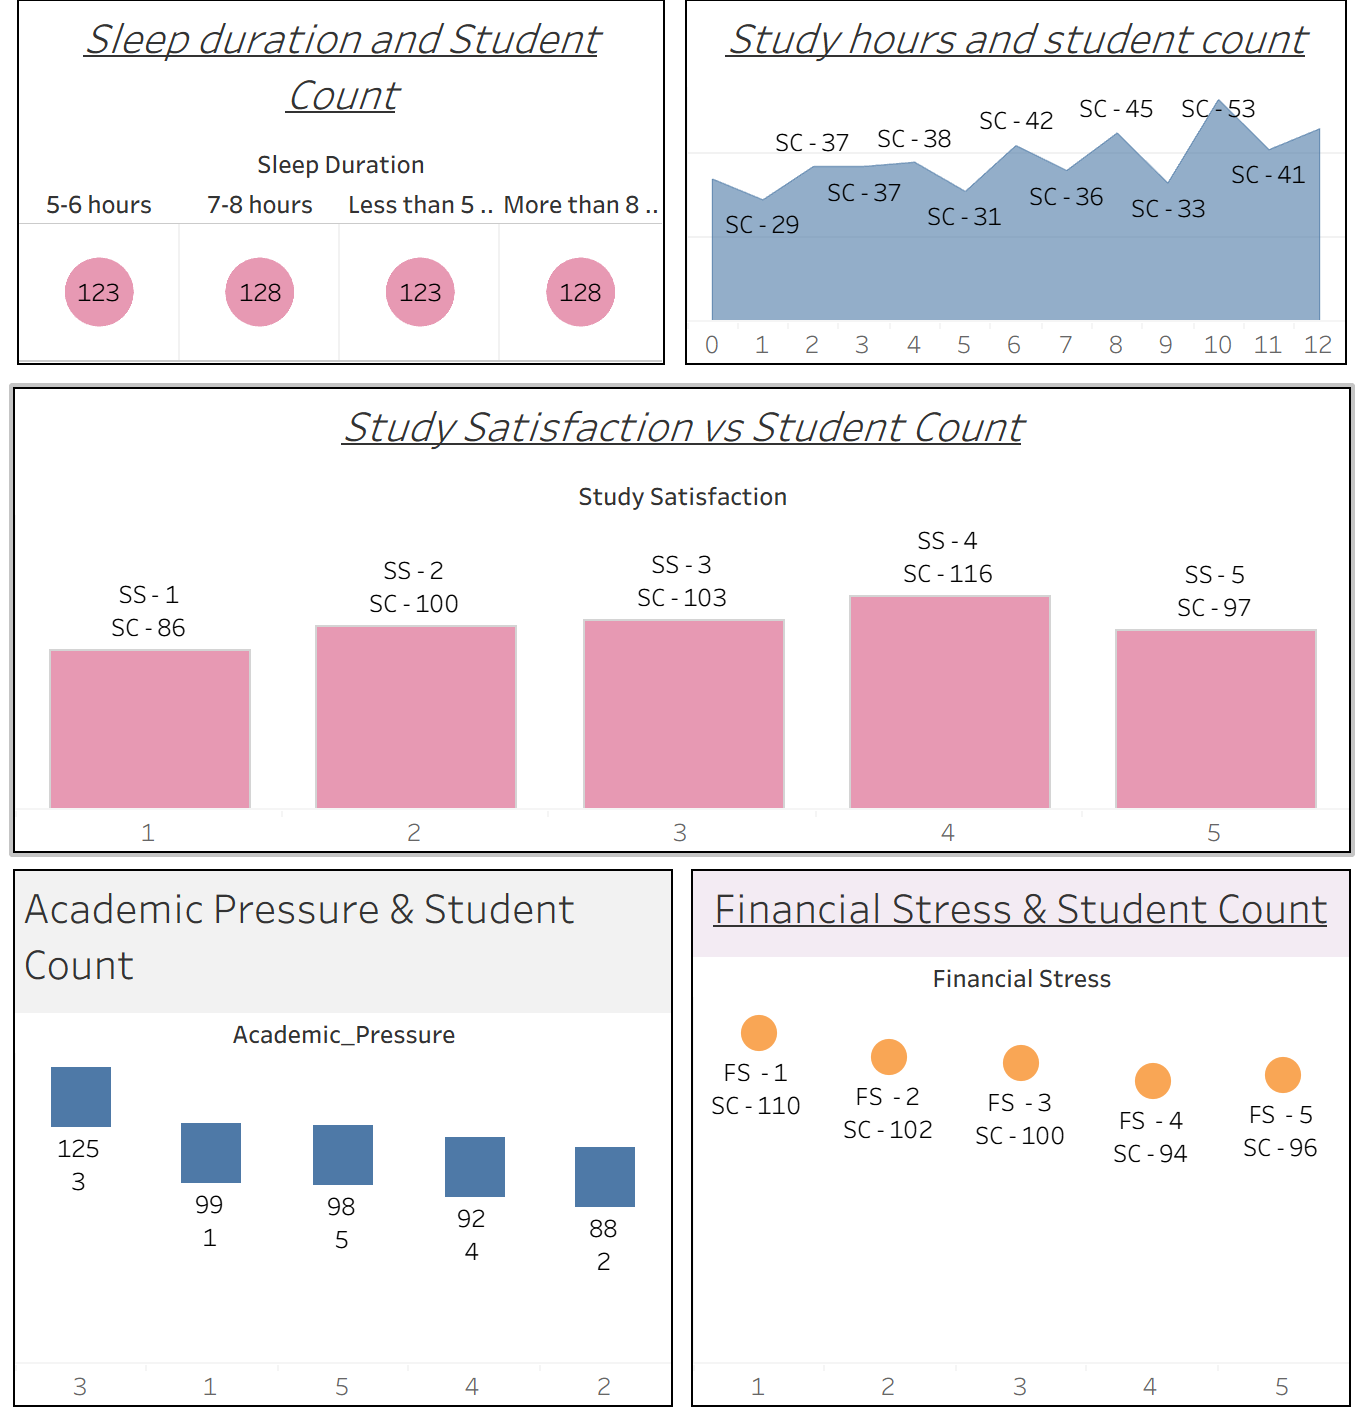

This screenshot's page, from the dashboard's own definition file:
{"tool":"tableau","page":{"name":"Dashboard 1","canvas":[1000,1000],"units":"permille","ordinal":0},"visuals":[{"type":"worksheet","title":"SD & SC","mark":"Pie","cols":["Sleep_Duration"],"box":[22,6.9,356.4,252.4]},{"type":"worksheet","title":"SH & SC","mark":"Area","rows":["Index_Column"],"cols":["Study_Hours"],"box":[389.8,6.9,363.7,252.4]},{"type":"worksheet","title":"SS & SC","mark":"Automatic","rows":["Index_Column"],"cols":["Study_Satisfaction"],"box":[20.3,274.5,735.6,321.4]},{"type":"worksheet","title":"AP & SC","mark":"Square","rows":["Index_Column"],"cols":["Academic_Pressure"],"box":[20.3,606.9,362.9,371]},{"type":"worksheet","title":"FS & SC","mark":"Circle","rows":["Index_Column"],"cols":["Financial_Stress"],"box":[393,606.9,362.9,371]}]}

Visuals, with their boxes on the dashboard's canvas, which has no fixed pixel size, in thousandths of its width and height (x1, y1, x2, y2). These are canvas units, not pixel positions in the 1358x1412 screenshot, which may show the page scaled, cropped or inside an application window:
"SD & SC" worksheet (Pie marks): (22, 7, 378, 259)
"SH & SC" worksheet (Area marks): (390, 7, 754, 259)
"SS & SC" worksheet: (20, 274, 756, 596)
"AP & SC" worksheet (Square marks): (20, 607, 383, 978)
"FS & SC" worksheet (Circle marks): (393, 607, 756, 978)
